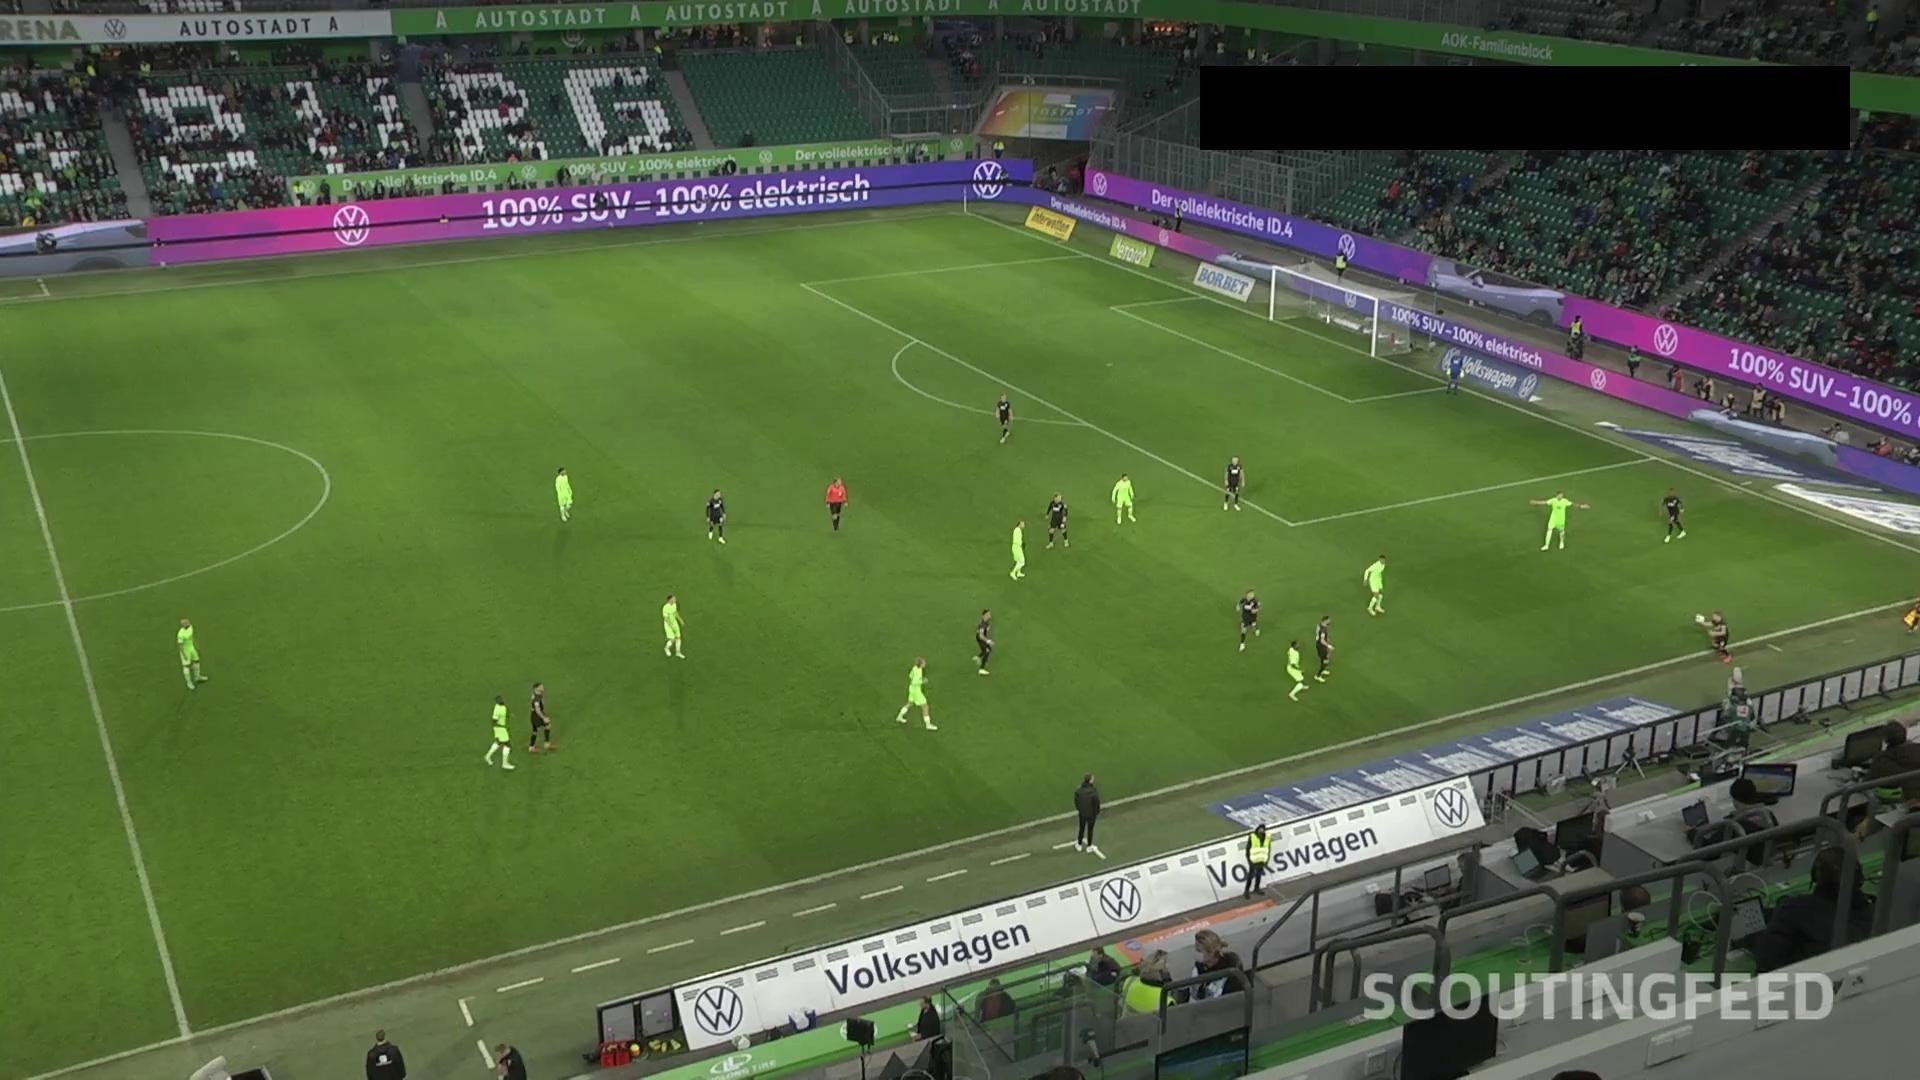Location-of-ball: (1683, 612, 1718, 633)
